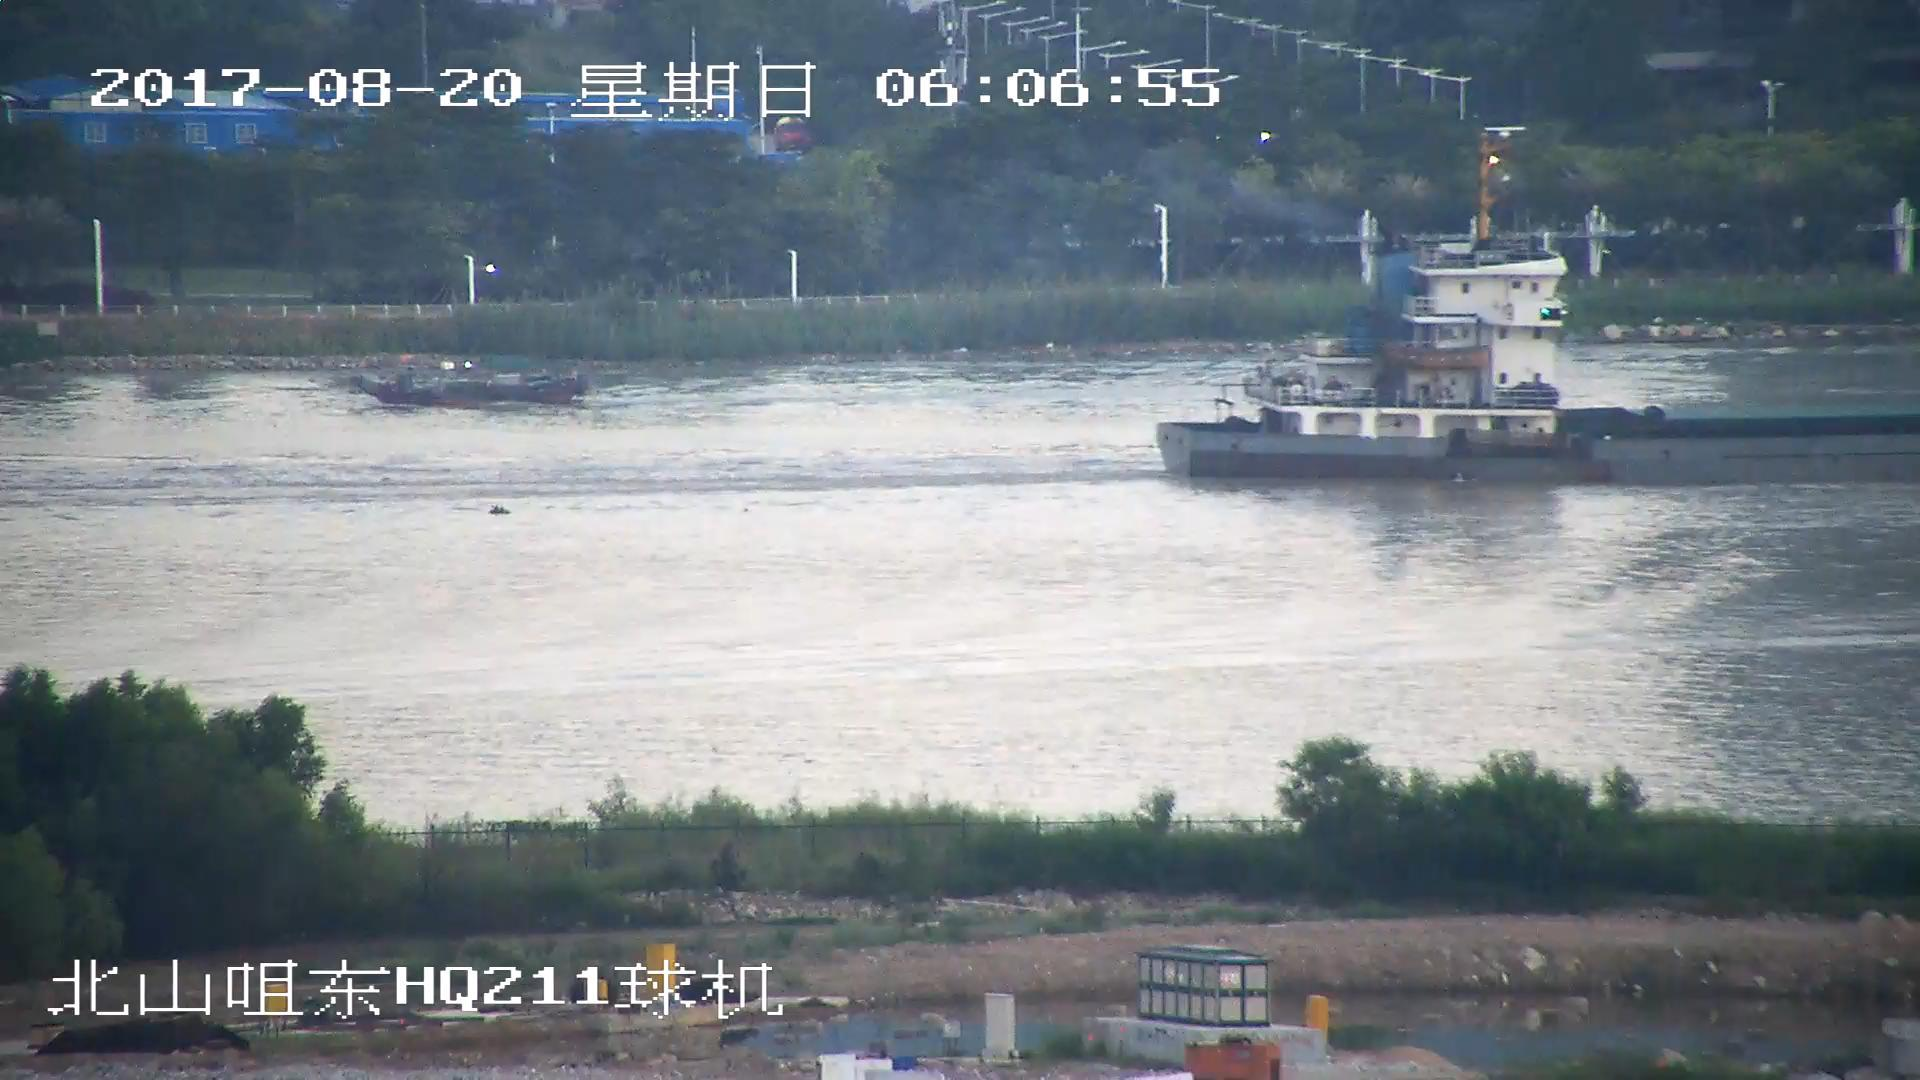Ship: (1160, 218, 1920, 485), (360, 365, 585, 409)
